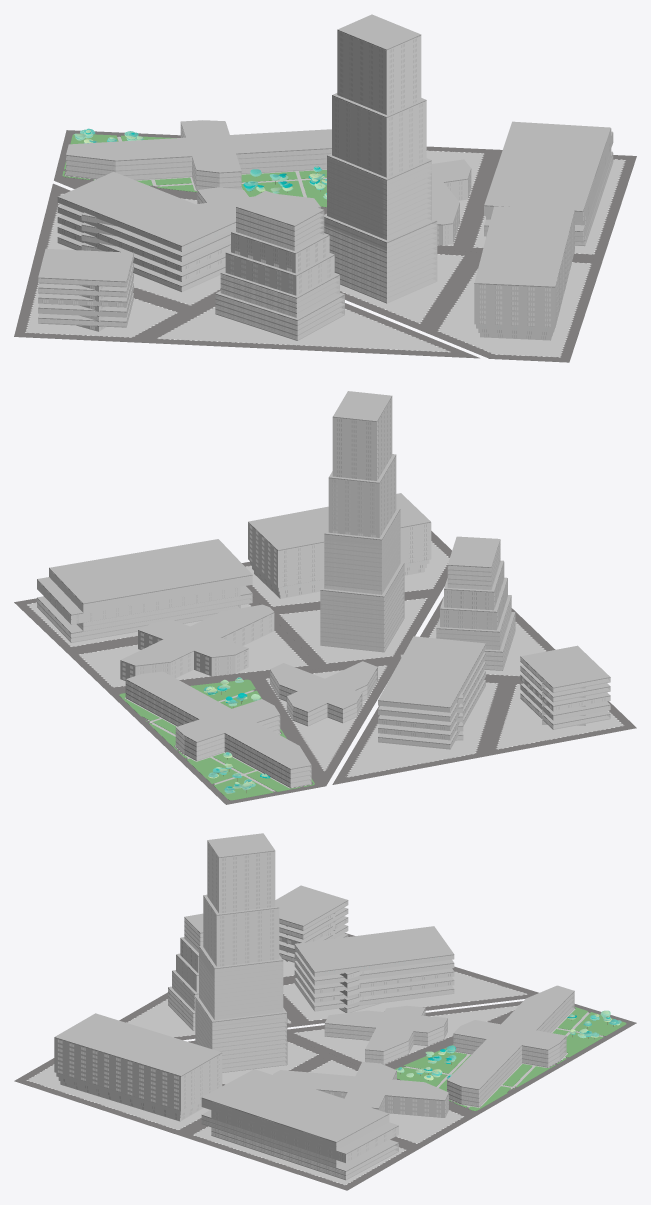
The model's file is dbf.gltf.
3 renders of one model, top to bottom at view 1: azimuth 30°, elevation 25°; view 2: azimuth 150°, elevation 25°; view 3: azimuth 270°, elevation 25°, orthographic. The views are drawn at different scales.
Visible parts, largest first — view 1: Mesh_12, Mesh_20, plot.004, Mesh_28, plot.003, Mesh_83, Mesh_85, Mesh_50, Mesh_87, Mesh_89, Mesh_13, plot.008 (+39 smaller); view 2: Mesh_12, Mesh_20, plot.002, Mesh_30, Mesh_50, Mesh_83, Mesh_10, plot.005, plot.006, plot.007, Mesh_85, plot.008 (+33 smaller); view 3: Mesh_12, Mesh_20, Mesh_28, Mesh_29, Mesh_50, Mesh_10, Mesh_85, Mesh_83, Mesh_30, Mesh_87, plot.002, Mesh_89 (+36 smaller).
Part boxes in pixels (x1=…): Mesh_12: x1=66, y1=120, x2=331, y2=190; Mesh_20: x1=484, y1=121, x2=610, y2=221; plot.004: x1=136, y1=299, x2=479, y2=358; Mesh_28: x1=474, y1=206, x2=574, y2=326; plot.003: x1=425, y1=252, x2=602, y2=362; Mesh_83: x1=324, y1=218, x2=437, y2=303; Mesh_85: x1=327, y1=156, x2=431, y2=240; Mesh_50: x1=57, y1=172, x2=235, y2=251; Mesh_87: x1=332, y1=96, x2=426, y2=177; Mesh_89: x1=337, y1=30, x2=421, y2=114; Mesh_13: x1=66, y1=123, x2=331, y2=190; plot.008: x1=14, y1=260, x2=191, y2=342; Mesh_12: x1=126, y1=671, x2=311, y2=787; Mesh_20: x1=49, y1=539, x2=252, y2=604; plot.002: x1=332, y1=678, x2=508, y2=784; Mesh_30: x1=120, y1=604, x2=274, y2=679; Mesh_50: x1=378, y1=636, x2=485, y2=712; Mesh_83: x1=320, y1=563, x2=404, y2=652; Mesh_10: x1=270, y1=661, x2=377, y2=725; plot.005: x1=66, y1=620, x2=320, y2=692; plot.006: x1=255, y1=659, x2=399, y2=786; plot.007: x1=274, y1=592, x2=440, y2=668; Mesh_85: x1=324, y1=509, x2=400, y2=594; plot.008: x1=484, y1=680, x2=636, y2=756; Mesh_12: x1=447, y1=985, x2=574, y2=1106; Mesh_20: x1=201, y1=1069, x2=388, y2=1146; Mesh_28: x1=54, y1=1013, x2=221, y2=1109; Mesh_29: x1=54, y1=1038, x2=222, y2=1111; Mesh_50: x1=294, y1=926, x2=454, y2=972; Mesh_10: x1=324, y1=1005, x2=447, y2=1064; Mesh_85: x1=199, y1=947, x2=283, y2=1020; Mesh_83: x1=195, y1=998, x2=287, y2=1072; Mesh_30: x1=273, y1=1062, x2=448, y2=1117; Mesh_87: x1=203, y1=896, x2=279, y2=966; plot.002: x1=283, y1=966, x2=538, y2=1025; Mesh_89: x1=207, y1=841, x2=275, y2=913.
Bounding box in the file's own units: 407 × 148 × 393.
78 materials, 49 textured.
